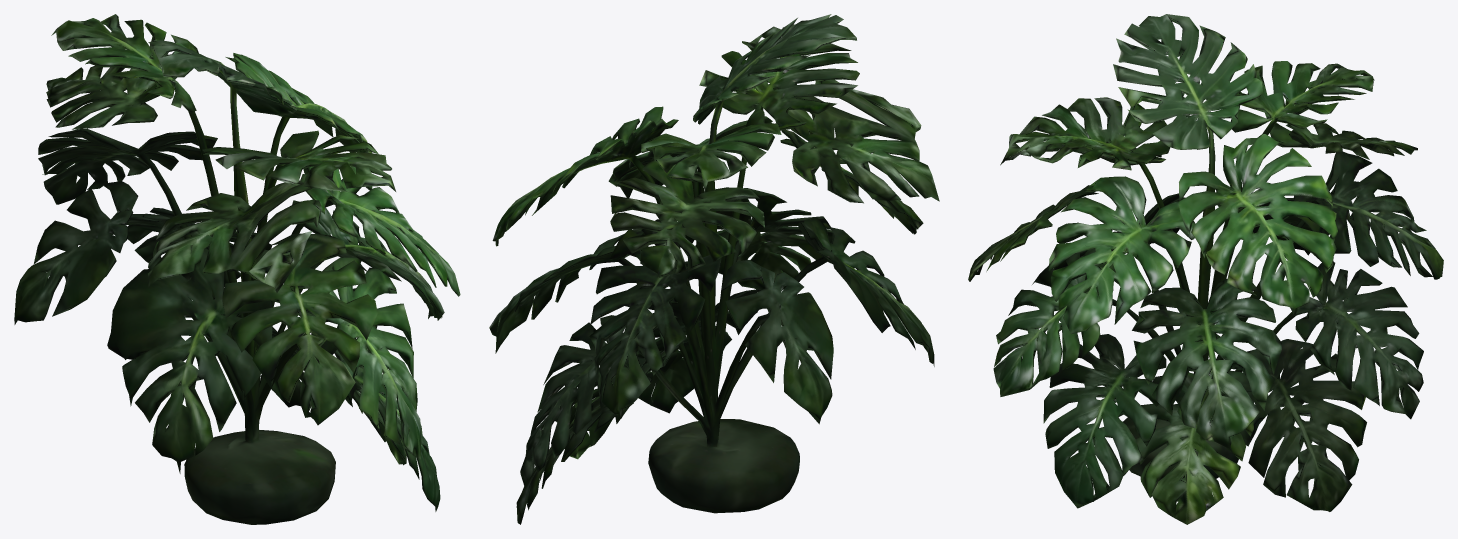
The model's file is monstera_clump.fbx.
3 views of the same model, side by side, from view 1: azimuth 30°, elevation 25°; view 2: azimuth 150°, elevation 25°; view 3: azimuth 270°, elevation 25° (orthographic). The views are drawn at different scales.
Visible parts, largest first — view 1: monstera_clump; view 2: monstera_clump; view 3: monstera_clump.
Part boxes in pixels (x1,y1,x2,y2): monstera_clump: (14, 14, 460, 524); monstera_clump: (489, 14, 939, 524); monstera_clump: (968, 14, 1443, 524).
Bounding box in the file's own units: 1.23 × 1.5 × 1.59.
1 material, 1 textured.
